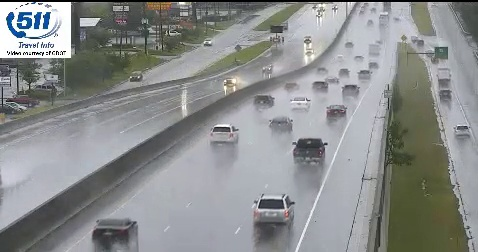car: (254, 194, 294, 226), (93, 219, 139, 246), (293, 138, 325, 163), (209, 125, 237, 143), (269, 117, 293, 133), (253, 94, 274, 108), (326, 105, 346, 118), (290, 96, 309, 109)
